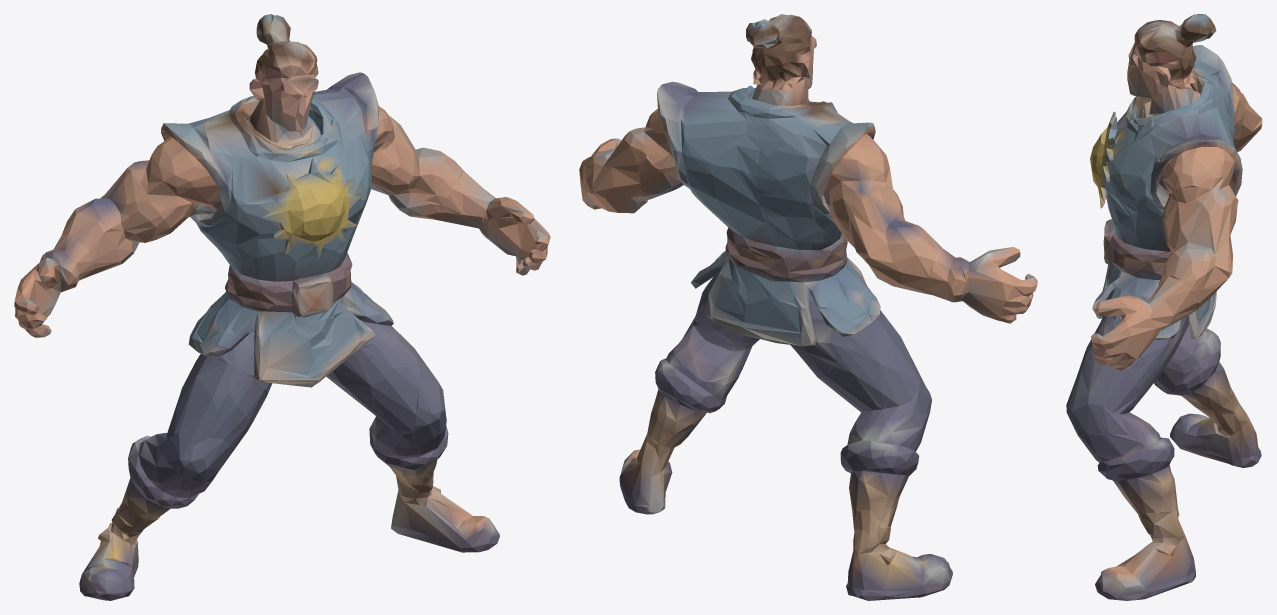
Rendered from messenger.glb.
3 renders of one model, left to right at view 1: azimuth 30°, elevation 25°; view 2: azimuth 150°, elevation 25°; view 3: azimuth 270°, elevation 25°, orthographic. The views are drawn at different scales.
Visible parts, largest first — view 1: messenger; view 2: messenger; view 3: messenger.
Boxes of the visible parts, box(x1,y1,x2,y2) form: messenger: box(14, 14, 550, 600); messenger: box(579, 14, 1037, 600); messenger: box(1066, 14, 1262, 600).
Size of the model in its own units: 0.9607 by 0.9977 by 0.3499.
